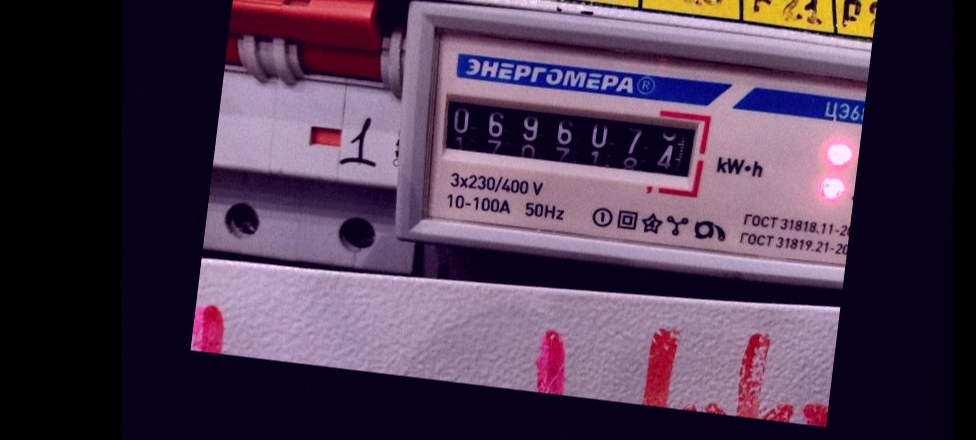0: (589, 117, 611, 149), (451, 104, 472, 133)
4: (656, 140, 675, 170)
6: (554, 115, 576, 146), (486, 107, 508, 137)
7: (624, 124, 645, 155)
9: (520, 112, 540, 142)
screen: (425, 74, 718, 197)
